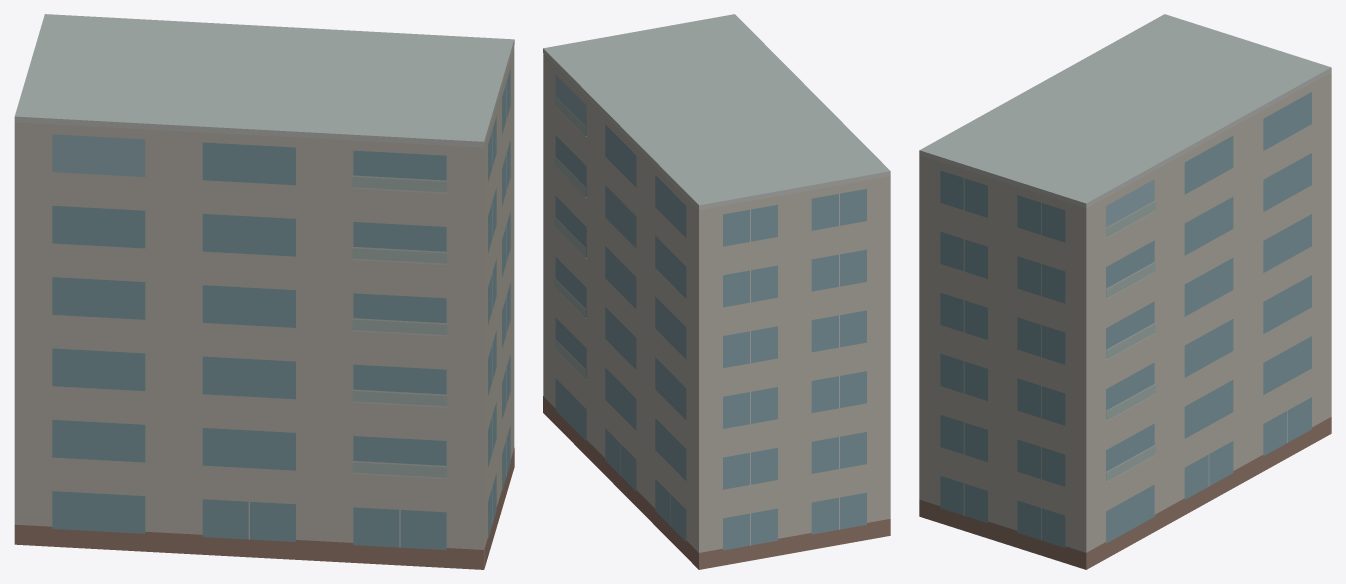
The model's file is survey-upis-32628385.glb.
3 views of the same model, side by side, from view 1: azimuth 30°, elevation 25°; view 2: azimuth 150°, elevation 25°; view 3: azimuth 270°, elevation 25° (orthographic). The views are drawn at different scales.
Parts seen in each view (by area): view 1: survey-upis-32628385.tmp; view 2: survey-upis-32628385.tmp; view 3: survey-upis-32628385.tmp.
Boxes of the visible parts, bbox=[...] form: survey-upis-32628385.tmp: bbox=[14, 14, 514, 569]; survey-upis-32628385.tmp: bbox=[543, 14, 890, 569]; survey-upis-32628385.tmp: bbox=[919, 14, 1331, 569].
Size of the model in its own units: 20.31 by 18.3 by 18.66.
